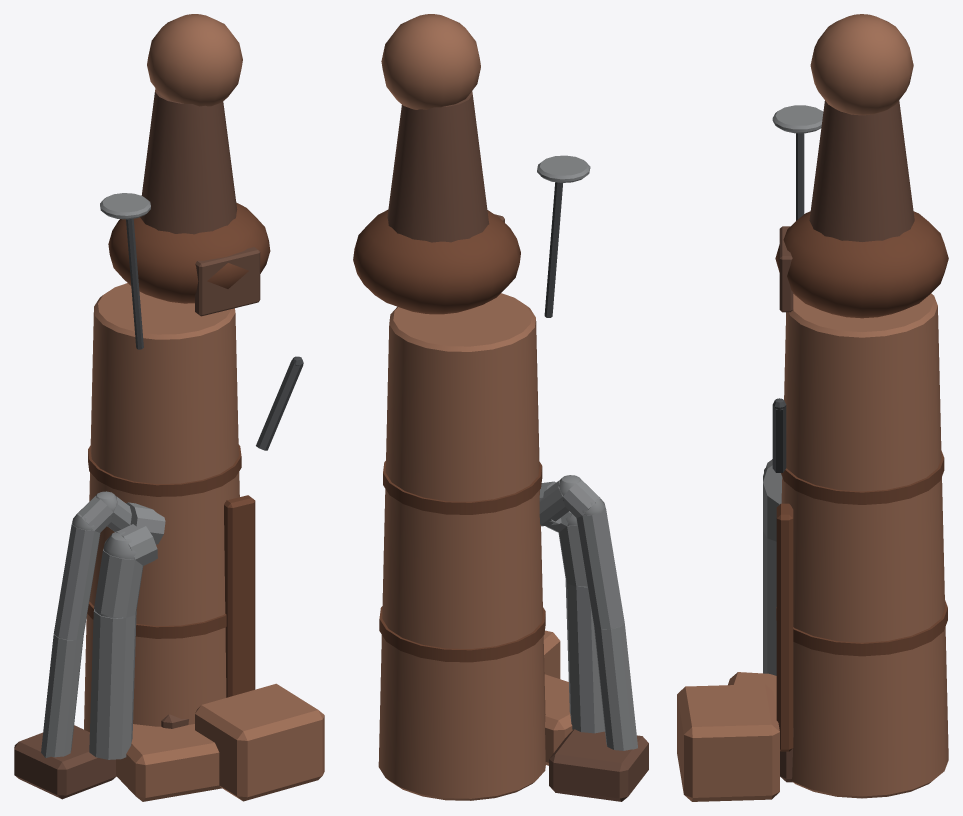
File: fulgoran-ruin-attractor.glb
The picture shows the model from 3 angles, left to right: view 1: azimuth 30°, elevation 25°; view 2: azimuth 150°, elevation 25°; view 3: azimuth 270°, elevation 25°; orthographic projection. The views are drawn at different scales.
Parts seen in each view (by area): view 1: body; view 2: body; view 3: body.
Boxes of the visible parts, x1,y1,x2,y2 form: body: [14, 14, 324, 801]; body: [353, 14, 648, 801]; body: [677, 14, 948, 801].
Bounding box in the file's own units: 2.28 × 6.09 × 1.97.
